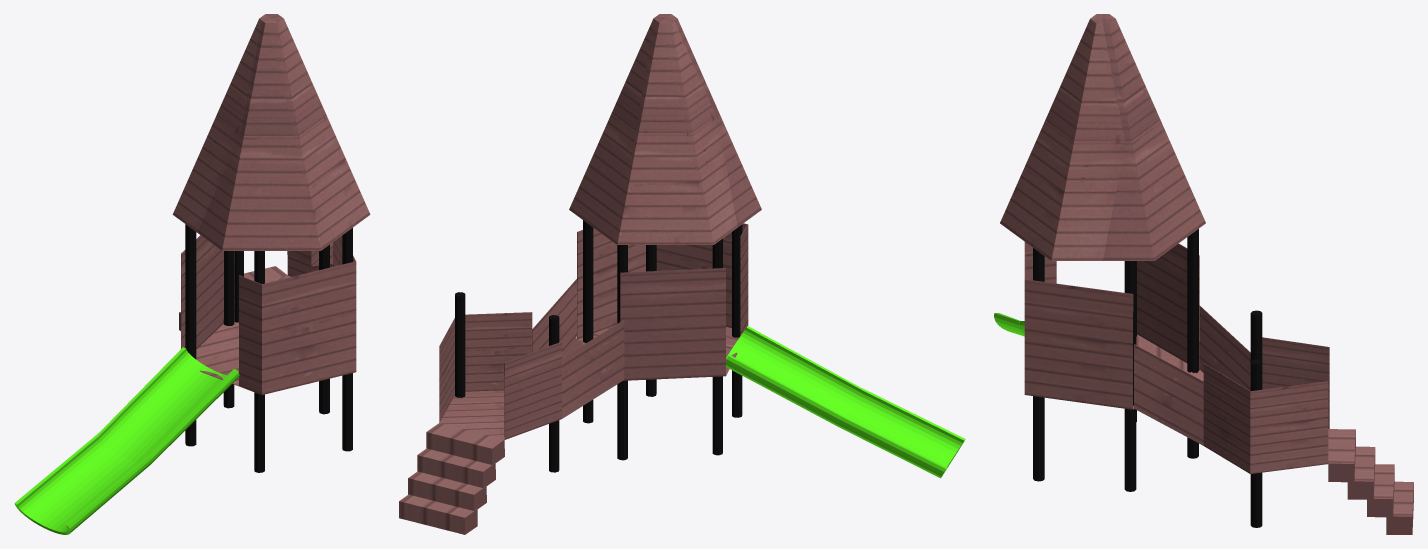
The model's file is slide.obj.
3 views of the same model, side by side, from view 1: azimuth 30°, elevation 25°; view 2: azimuth 150°, elevation 25°; view 3: azimuth 270°, elevation 25° (orthographic). The views are drawn at different scales.
Visible parts, largest first — view 1: Cone, Cylinder, Cylinder.009, Cylinder.003, Cylinder.001, Cylinder.004, Cylinder.005, Cylinder.002, Cylinder.006, Cylinder.008; view 2: Cone, Cylinder.001, Cylinder, Cylinder.009, Cylinder.006, Cylinder.004, Cylinder.002, Cylinder.003, Cylinder.007, Cylinder.008; view 3: Cone, Cylinder.001, Cylinder, Cylinder.002, Cylinder.006, Cylinder.005, Cylinder.007, Cylinder.008.
Boxes of the visible parts, bbox=[...] form: Cone: bbox=[172, 14, 370, 250]; Cylinder: bbox=[181, 235, 356, 394]; Cylinder.009: bbox=[14, 347, 239, 534]; Cylinder.003: bbox=[185, 224, 196, 446]; Cylinder.001: bbox=[179, 242, 332, 330]; Cylinder.004: bbox=[254, 251, 264, 472]; Cylinder.005: bbox=[342, 228, 352, 451]; Cylinder.002: bbox=[223, 251, 234, 408]; Cylinder.006: bbox=[319, 244, 329, 414]; Cylinder.008: bbox=[234, 251, 243, 322]; Cone: bbox=[569, 14, 761, 244]; Cylinder.001: bbox=[399, 279, 624, 534]; Cylinder: bbox=[577, 223, 748, 380]; Cylinder.009: bbox=[726, 326, 965, 478]; Cylinder.006: bbox=[583, 220, 593, 423]; Cylinder.004: bbox=[732, 224, 742, 417]; Cylinder.002: bbox=[617, 245, 627, 460]; Cylinder.003: bbox=[712, 238, 722, 455]; Cylinder.007: bbox=[455, 292, 465, 397]; Cylinder.008: bbox=[549, 315, 559, 472]; Cone: bbox=[1000, 14, 1205, 260]; Cylinder.001: bbox=[1134, 305, 1413, 534]; Cylinder: bbox=[1024, 242, 1199, 409]; Cylinder.002: bbox=[1187, 229, 1198, 458]; Cylinder.006: bbox=[1124, 261, 1136, 491]; Cylinder.005: bbox=[1033, 248, 1044, 481]; Cylinder.007: bbox=[1250, 359, 1262, 527]; Cylinder.008: bbox=[1250, 310, 1262, 361].
Bounding box in the file's own units: 7.77 × 7.75 × 6.51.
